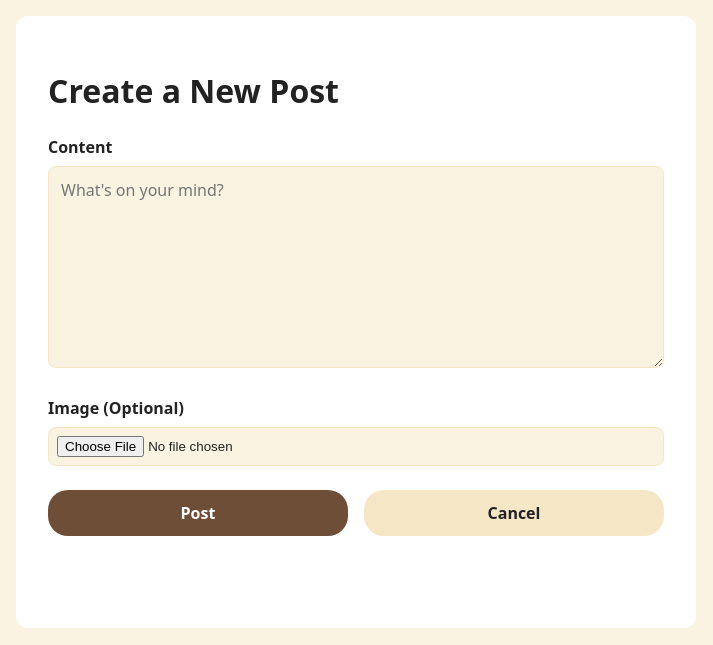
CreatePost - Loading States › dovrebbe disabilitare il pulsante durante il submit
This screenshot has width=713, height=645.
Type "Test content" into the text box labelled "Content".
click(356, 267); type("Test content")  # box [48,166,664,368]
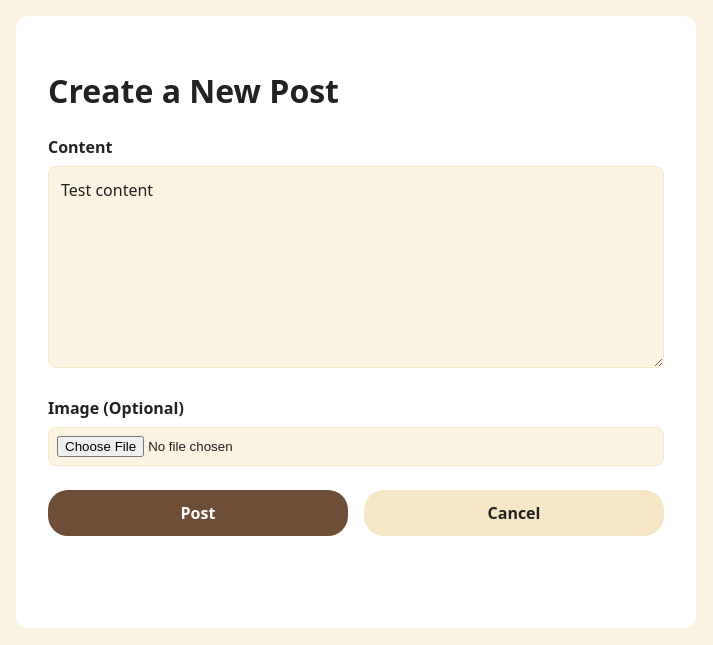
Click the button "Post".
click(198, 513)  # box [48,490,348,536]
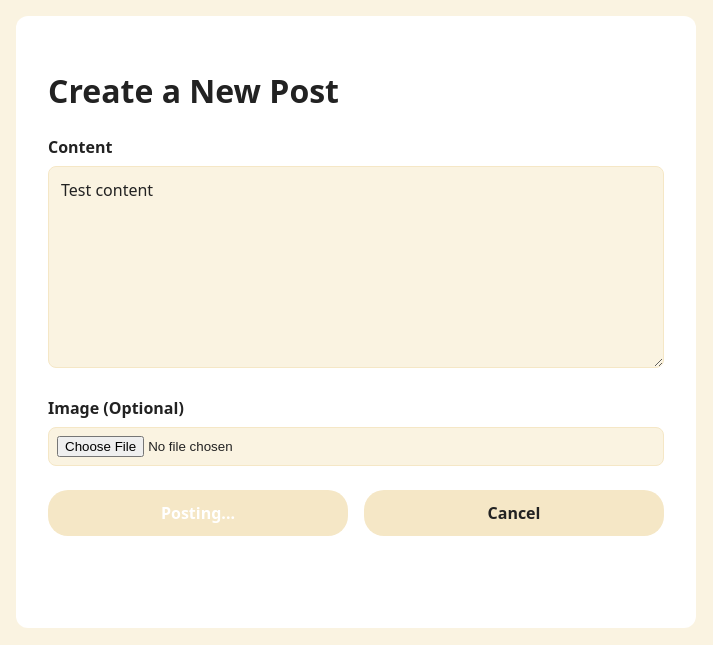
Expected: the button "Posting..." is disabled, [48,490,348,536]
